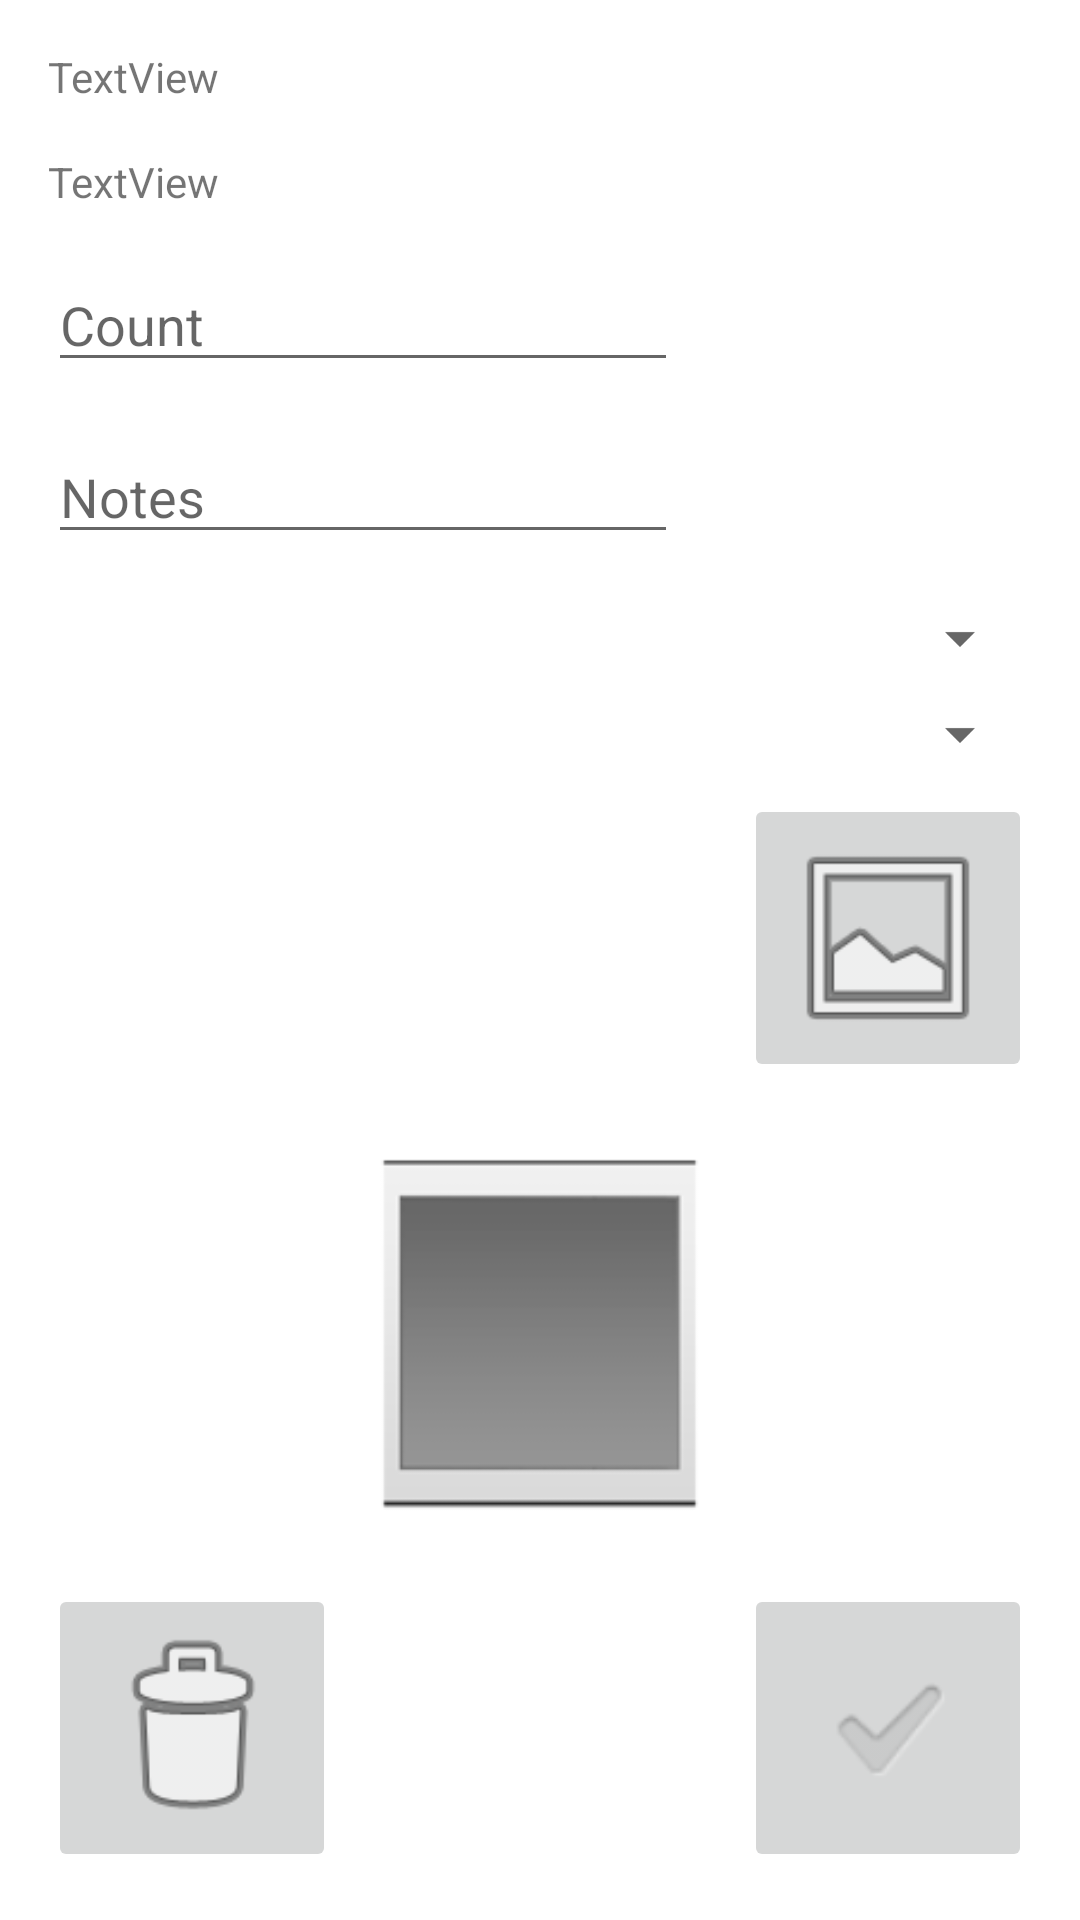

Screen size 1080*1920. Icon name, then its box in pixels as (x1, y1, x2, y2):
delete: (60, 1602, 324, 1854)
gallery: (756, 812, 1020, 1064)
